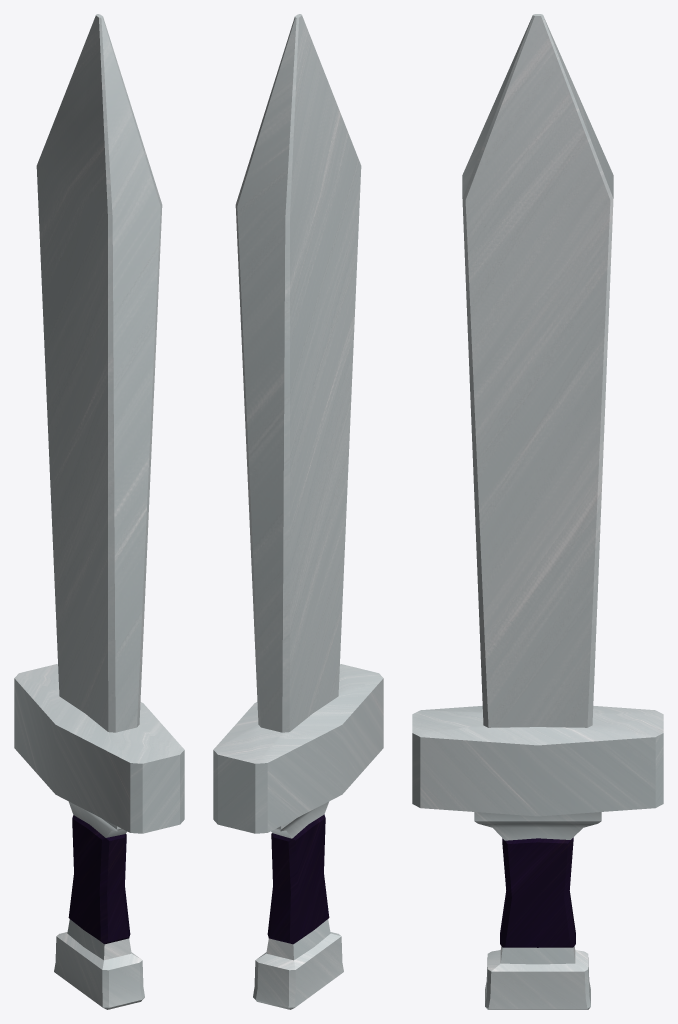
File: SwordA.fbx
The picture shows the model from 3 angles, left to right: view 1: azimuth 30°, elevation 25°; view 2: azimuth 150°, elevation 25°; view 3: azimuth 270°, elevation 25°; orthographic projection.
Visible parts, largest first — view 1: sword A; view 2: sword A; view 3: sword A.
Part boxes in pixels (bbox=[...]): sword A: bbox=[14, 14, 184, 1009]; sword A: bbox=[213, 14, 383, 1009]; sword A: bbox=[412, 14, 663, 1009].
Bounding box in the file's own units: 0.1488 × 1.57 × 0.3632.
